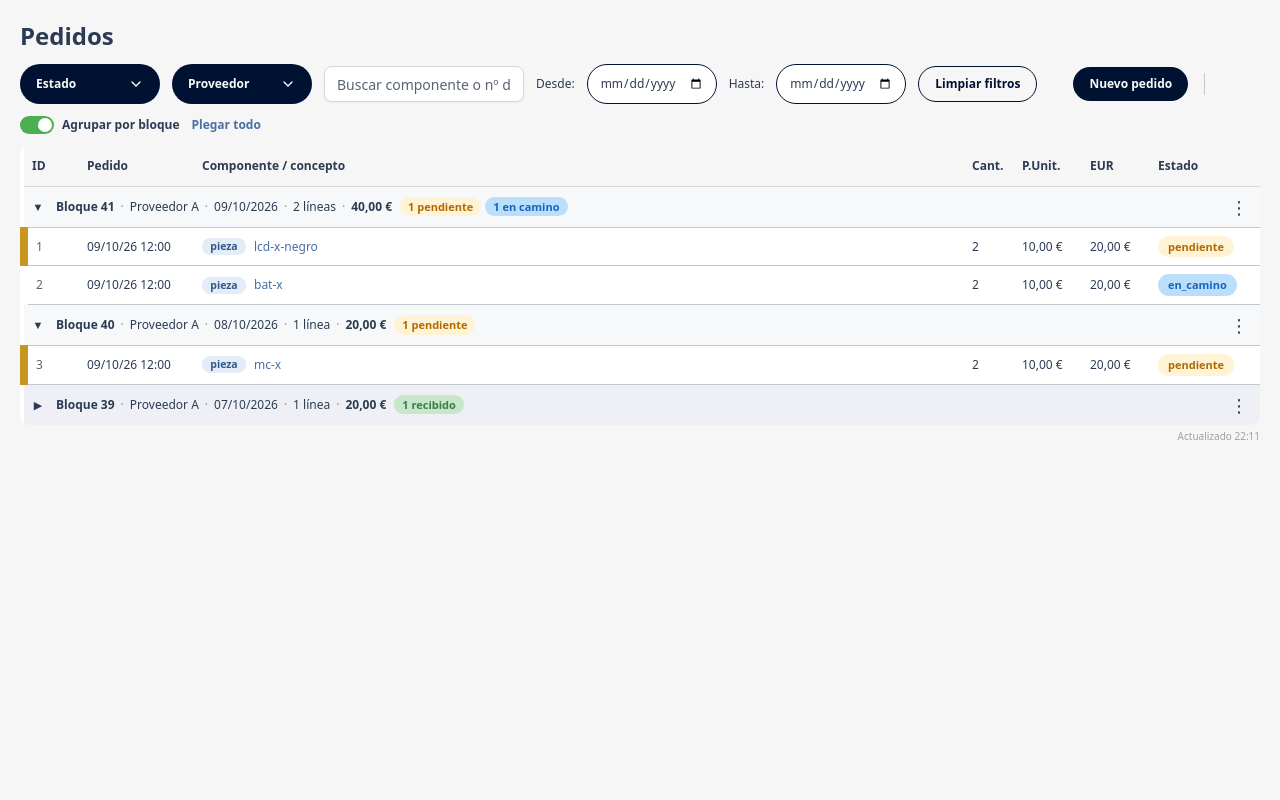
Pedidos agrupados por bloques (0.9.9) › ⋮ del bloque → «Juntar con…» ofrece el bloque abierto y no el terminado
Expected: the button "lcd-x-negro" is shown, [254,238,318,255]
Click the button named "Acciones del bloque 41" at [1239, 206], box [1224,192,1254,222]
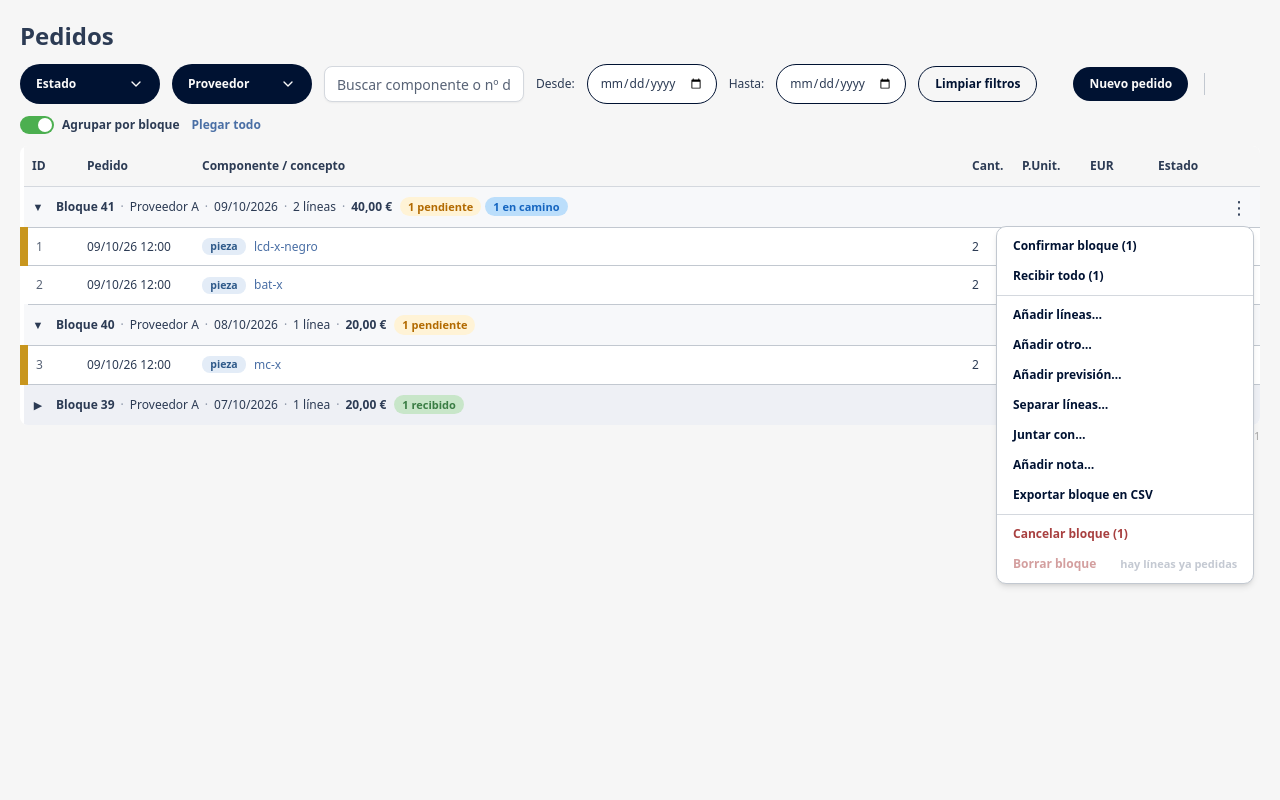
Click the menu item "Juntar con…" at [1049, 434], box [1013,426,1086,443]
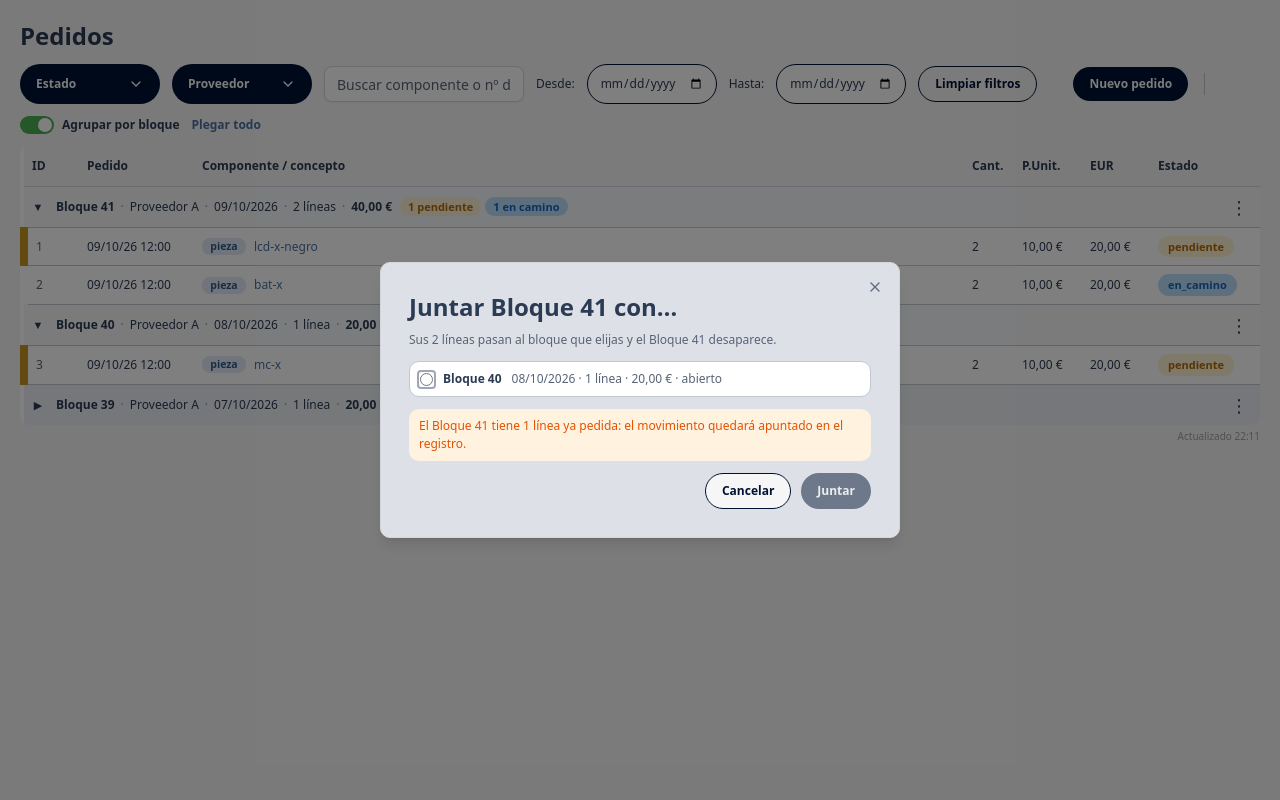
Now the radio button labelled "Bloque 40 08/10/2026 · 1 línea · 20,00 € · abierto" is shown, box [420,372,433,386]
